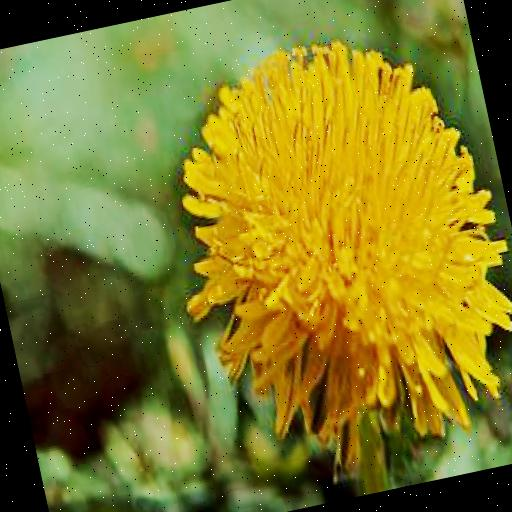dandelion: (135, 13, 512, 488)
